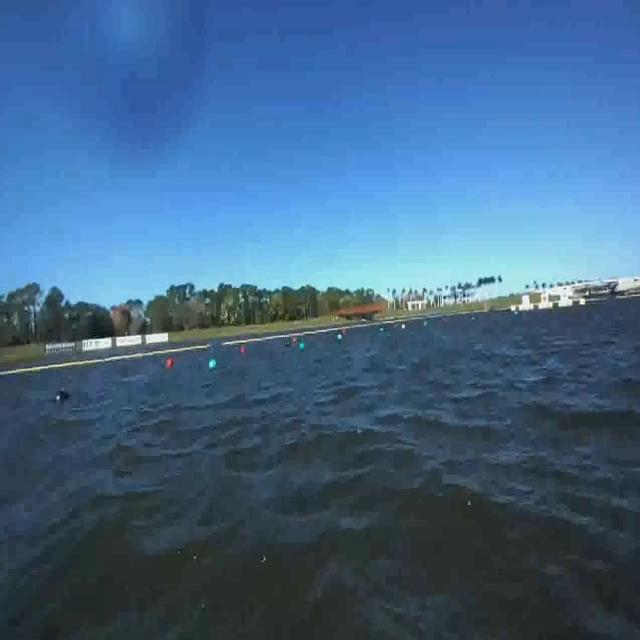black-buoy: (52, 387, 74, 412)
green-buoy: (209, 358, 218, 370)
red-buoy: (165, 358, 173, 370)
